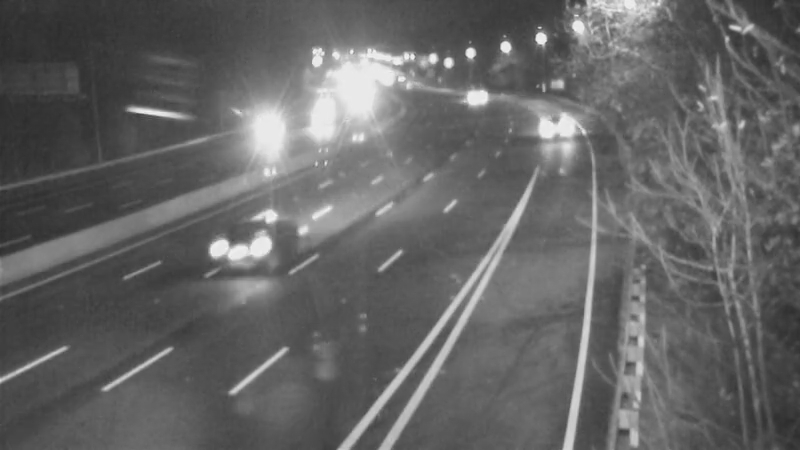vehicle: (205, 207, 285, 287), (453, 72, 503, 122), (523, 105, 573, 155), (244, 101, 294, 151), (297, 87, 347, 137)
